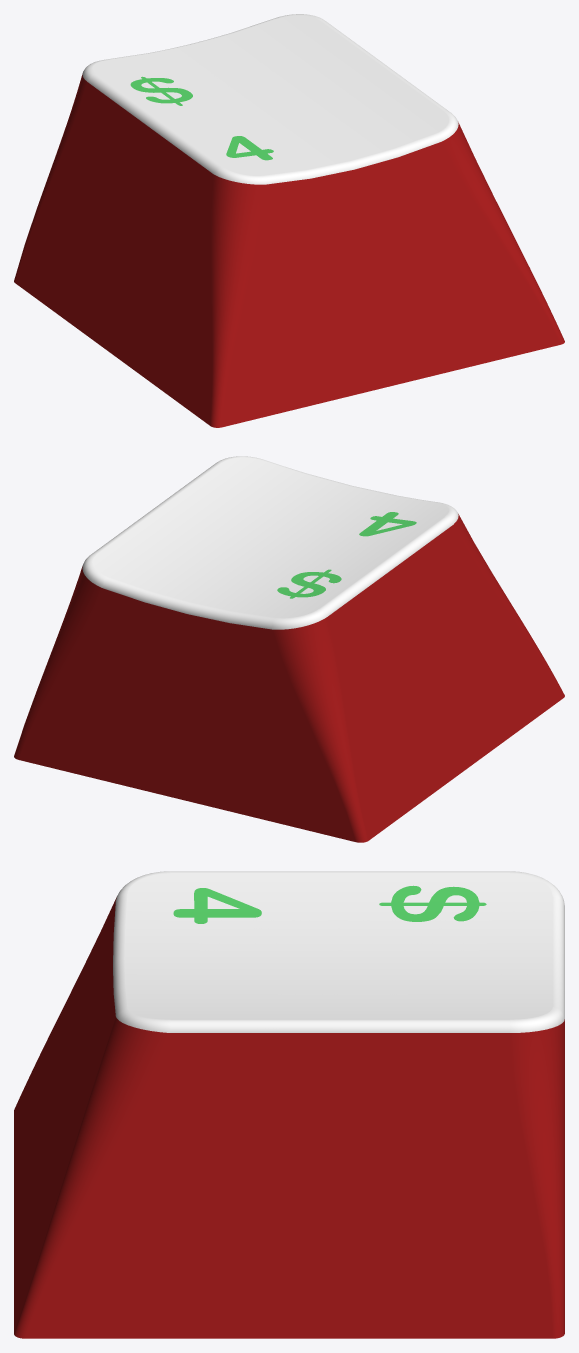
3 views of the same model, one above another, from view 1: azimuth 30°, elevation 25°; view 2: azimuth 150°, elevation 25°; view 3: azimuth 270°, elevation 25° (orthographic). The views are drawn at different scales.
Visible parts, largest first — view 1: Body1; view 2: Body1; view 3: Body1.
Boxes of the visible parts, <box> form: Body1: <box>14,14,564,427</box>; Body1: <box>14,456,564,842</box>; Body1: <box>14,871,564,1338</box>.
Size of the model in its own units: 18 by 9.95 by 18.
